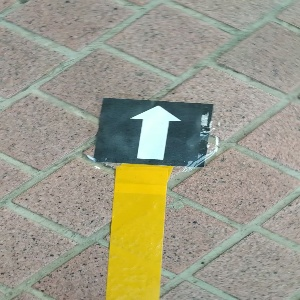straight: (98, 98, 210, 167)
